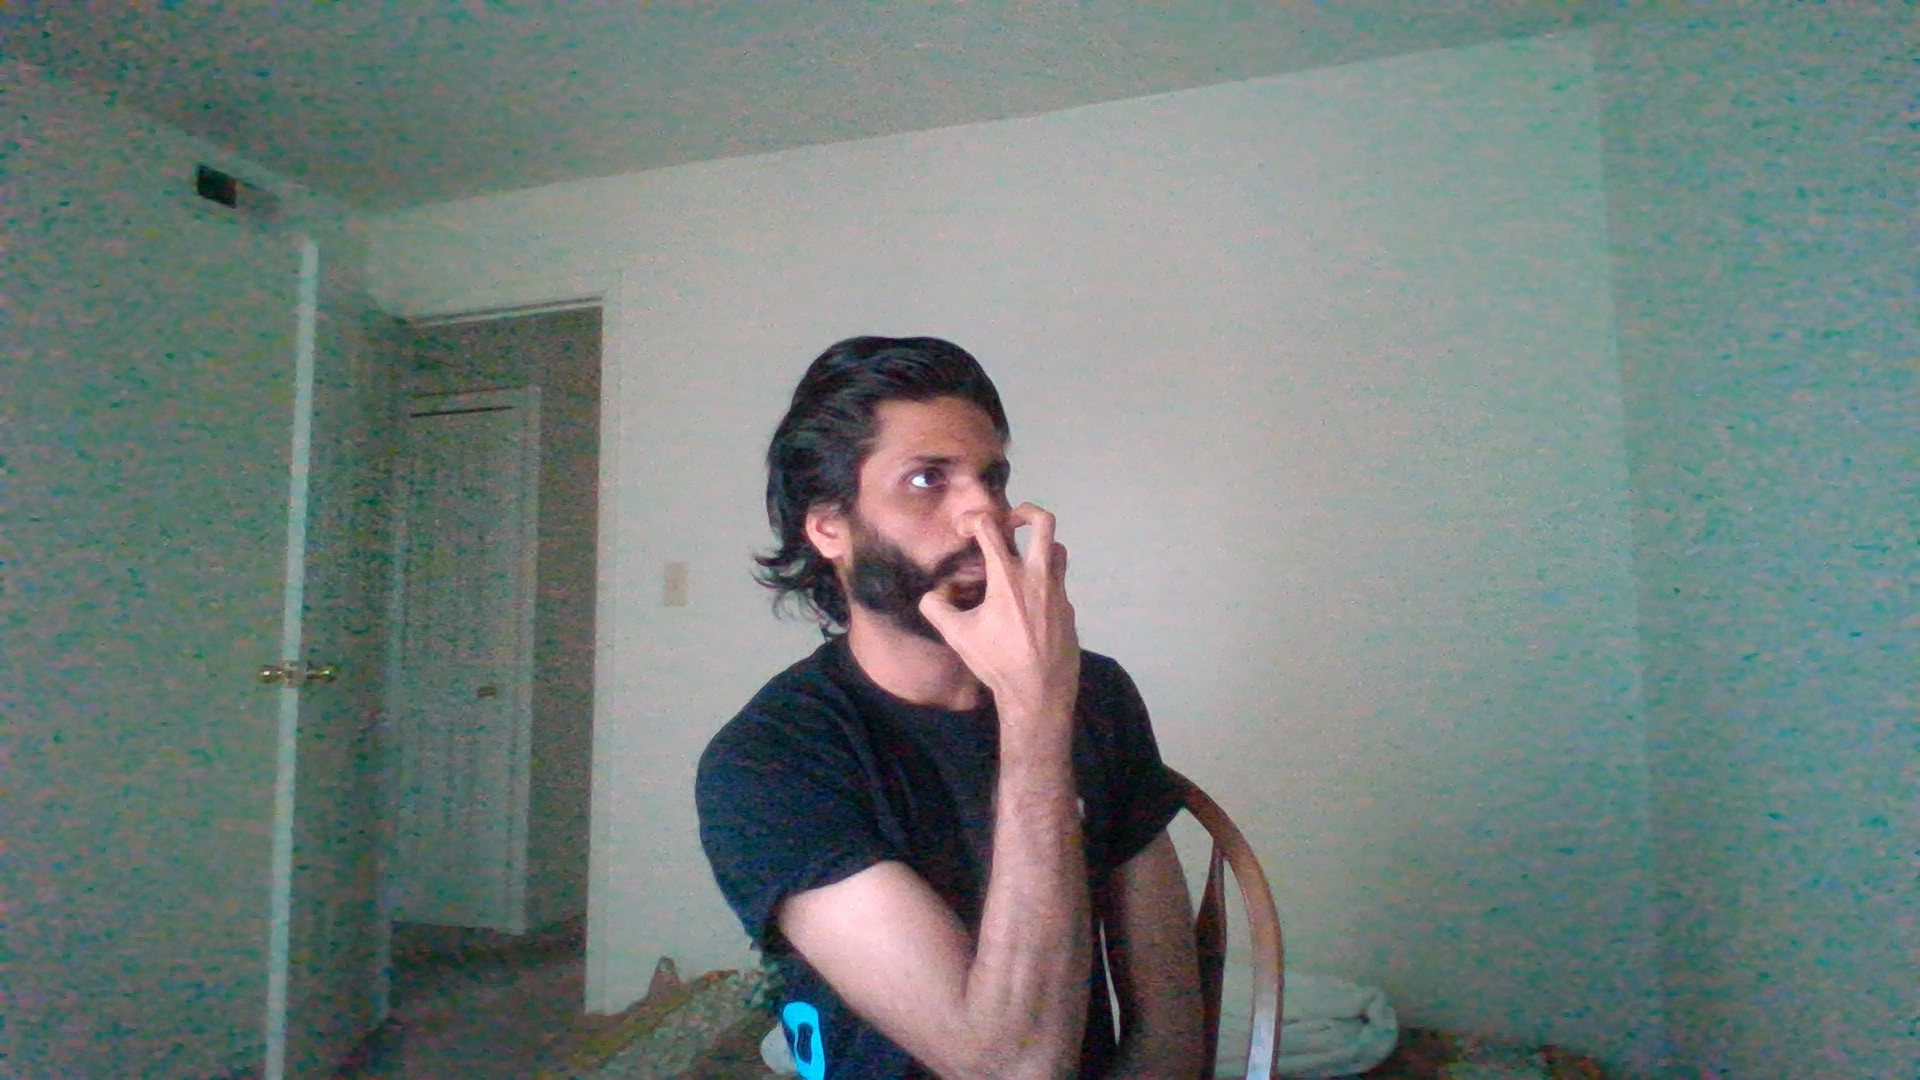Mad: (895, 502, 1142, 724)
